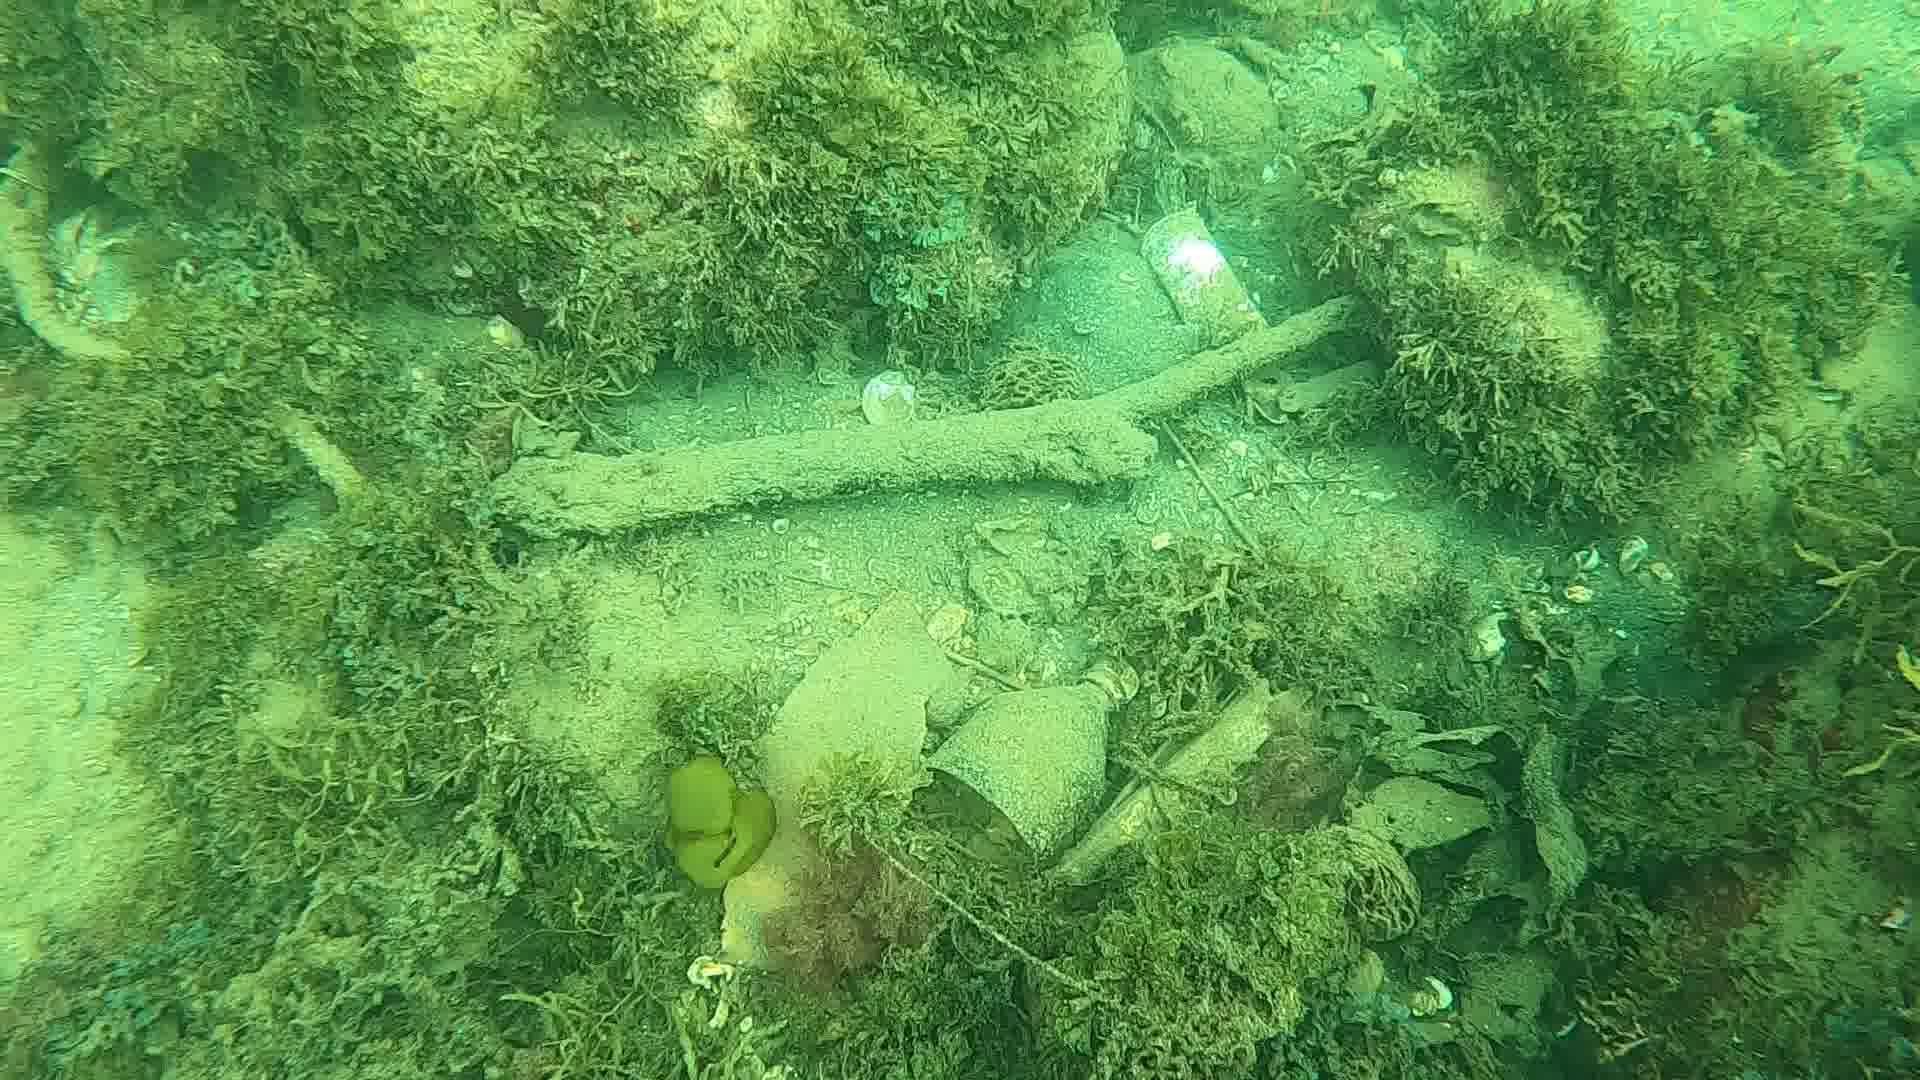rope: (0, 131, 131, 359), (262, 405, 380, 502)
wood: (487, 293, 1354, 539)
